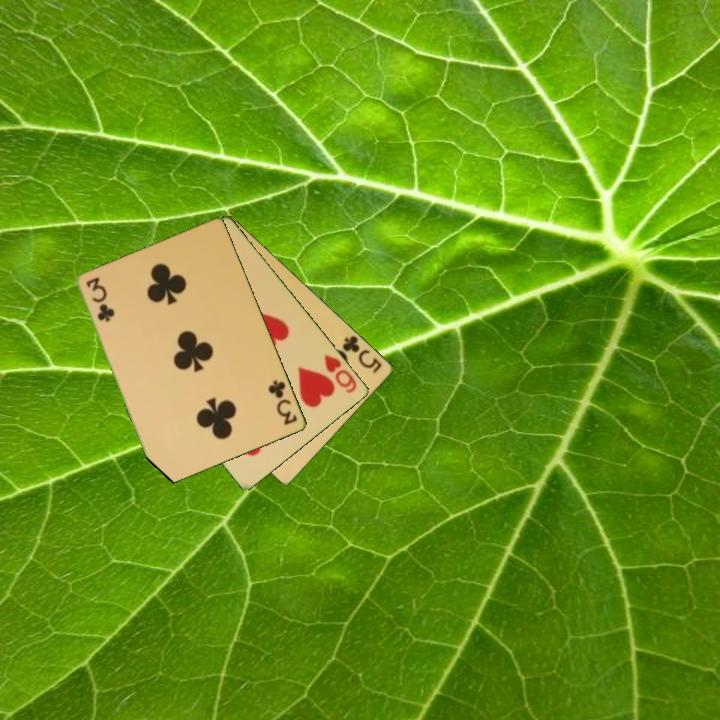3c: (265, 376, 301, 428), (83, 274, 116, 325)
5c: (339, 332, 385, 376)
6h: (321, 351, 360, 396)
